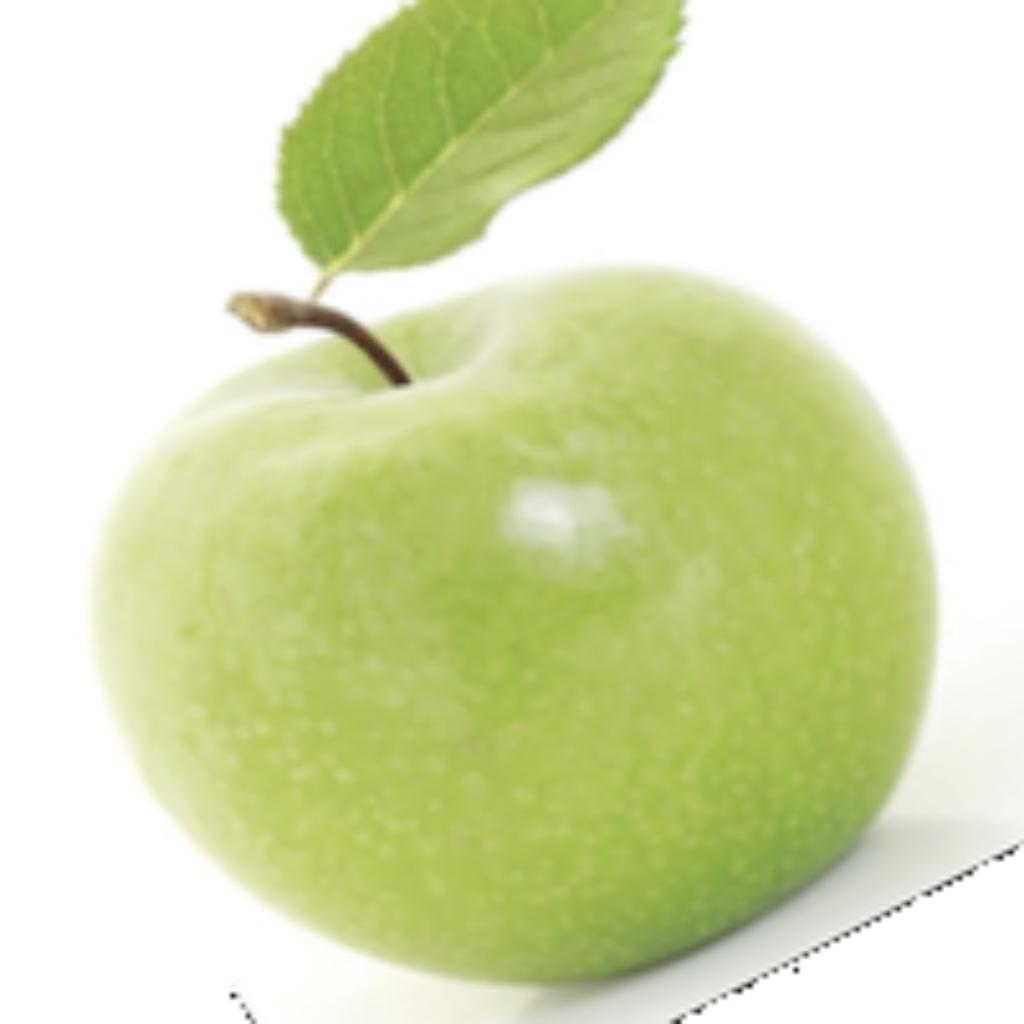apple: (82, 0, 1019, 1019)
